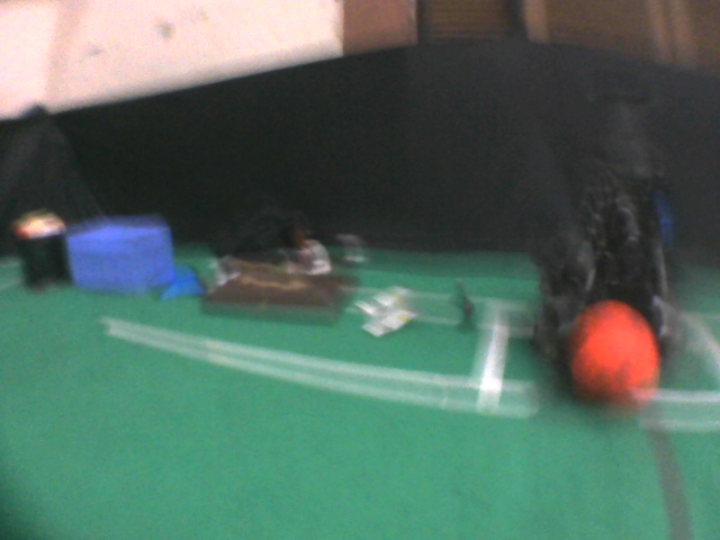bola: (551, 292, 667, 415)
